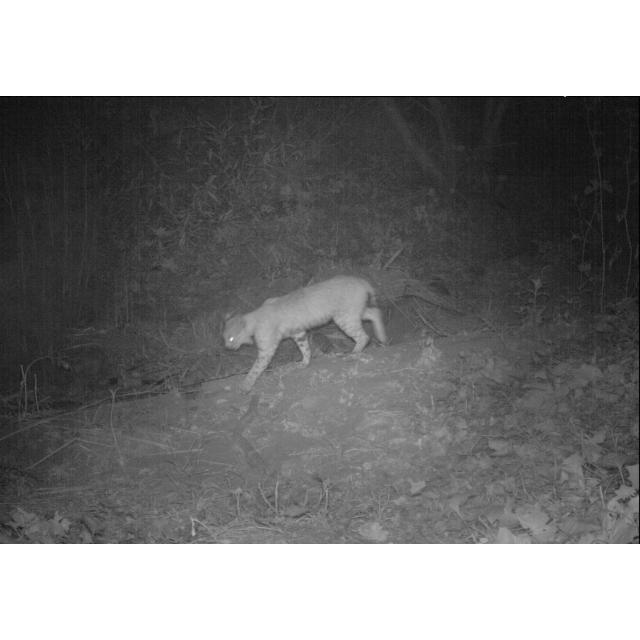animals: (220, 272, 392, 388)
